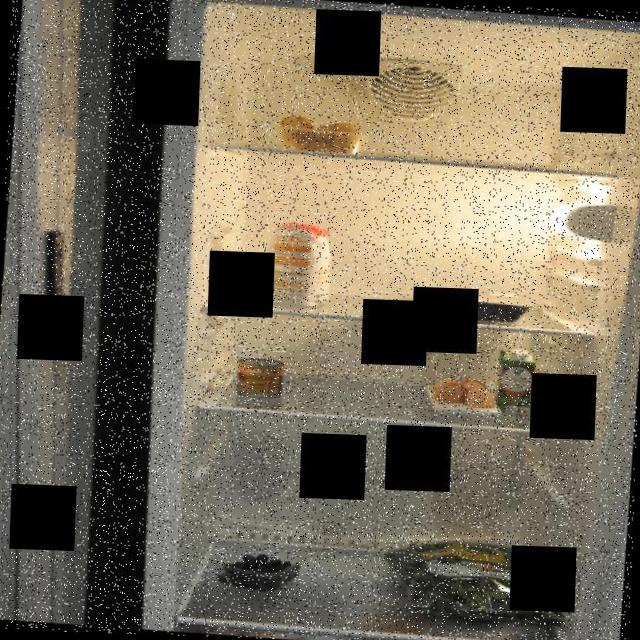Huevos: (427, 372, 502, 412)
Patata: (274, 112, 364, 152)
blueberries: (212, 540, 312, 590)
corn: (230, 353, 284, 399)
heavy_cream: (494, 345, 540, 418)
spinach: (376, 531, 570, 634)
sugar: (264, 218, 342, 306)
